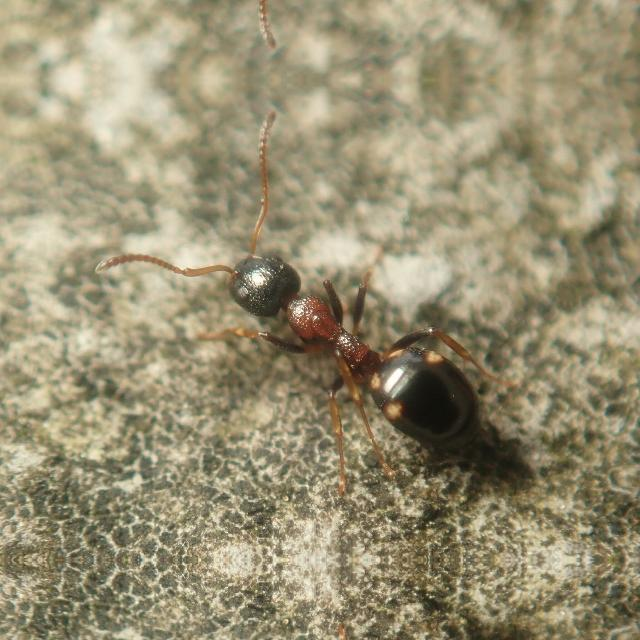Dolichoderus: (175, 206, 515, 479)
